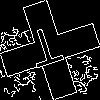T: (25, 25, 68, 78)
